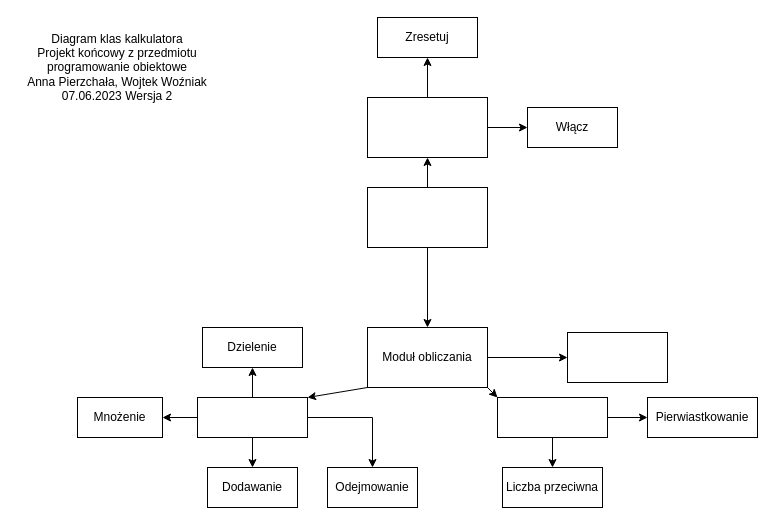
Image size: 775x525. Some labels were removed from this diagram. Here are the shapes that lost their labels. From the top down, the centre of each, then its label:
At pixel 427 127: "Moduł zarządzania stanem".
At pixel 427 217: "Kalkulator".
At pixel 617 357: "Cyfry".
At pixel 252 417: "Operacje dwuargumentowe".
At pixel 552 417: "Operacje jednoargumentowe".
